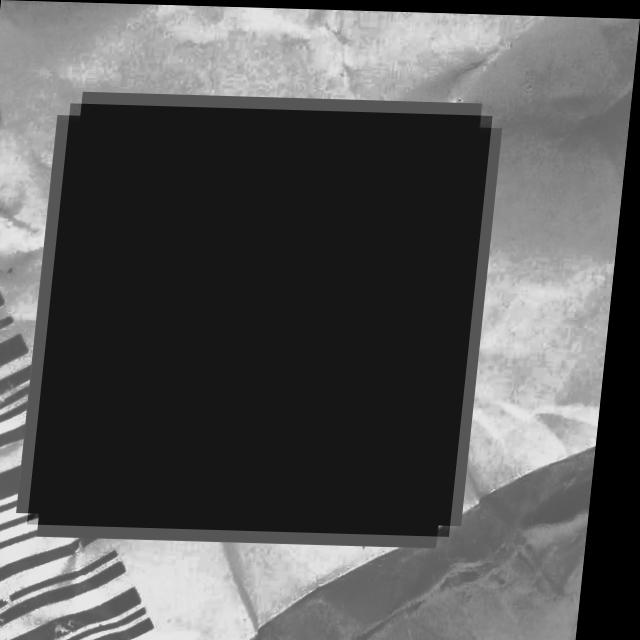qr_code: (37, 103, 493, 534)
